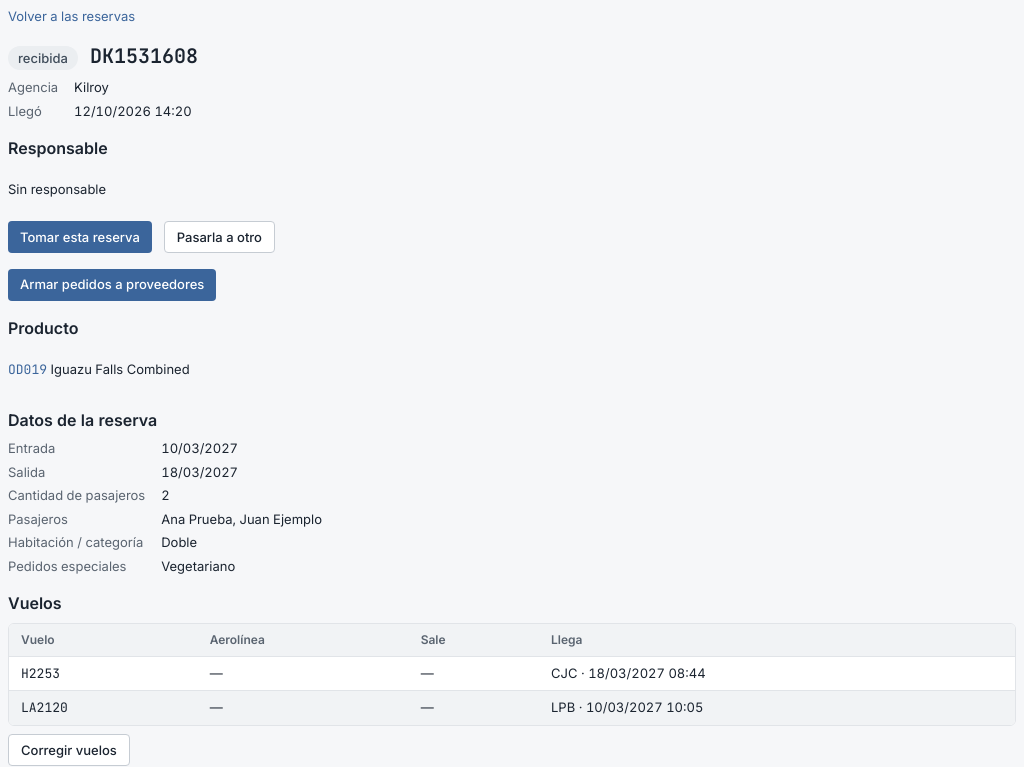
Test case: M3-07 fila 3 — la nota del operativo › viaja con los vuelos y aparece en el detalle al volver a leerlo
This screenshot has width=1024, height=767.
Click the button "Corregir vuelos" at (69, 750), box [8,734,130,766]
(page scrolled)
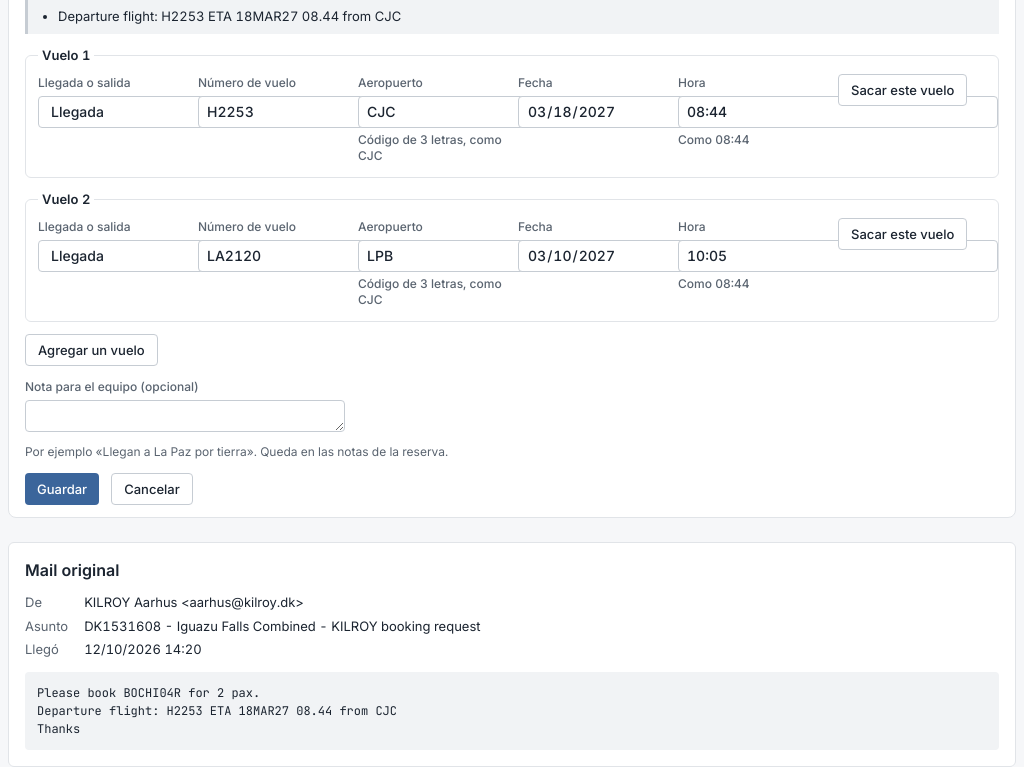
Type "  Llegan a La Paz por tierra " into the text box labelled "Nota para el equipo (opcional)" at (185, 416), box [25,400,345,432]
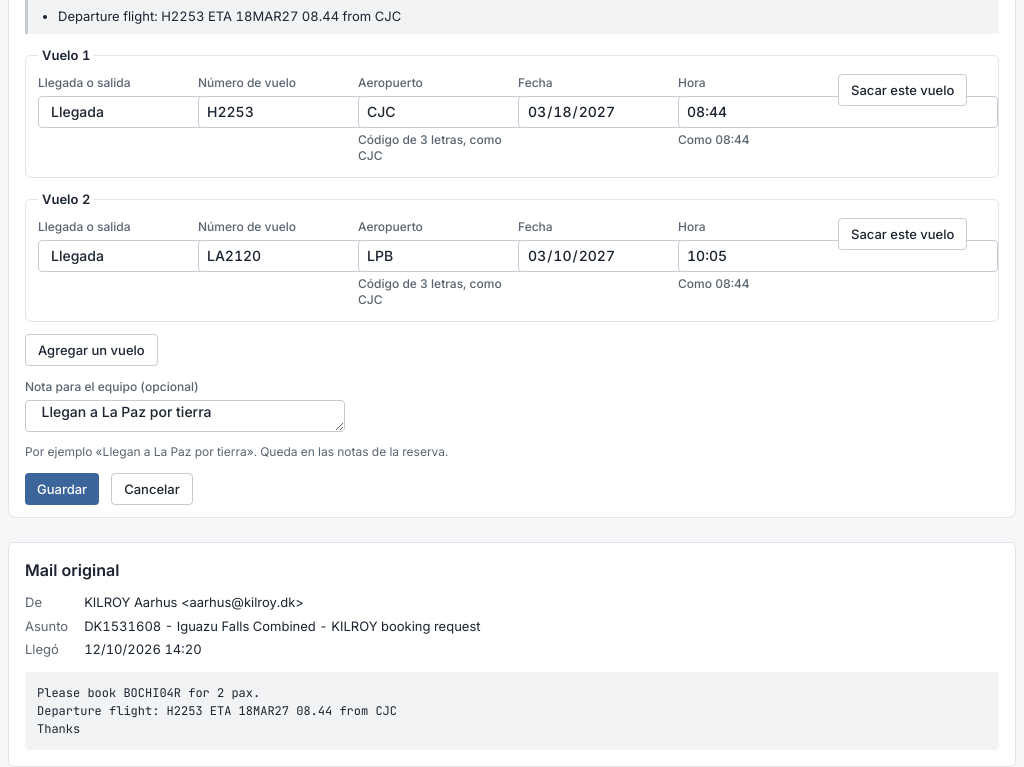
Click the button "Guardar" at (62, 489), box [25,473,99,505]
(page scrolled)
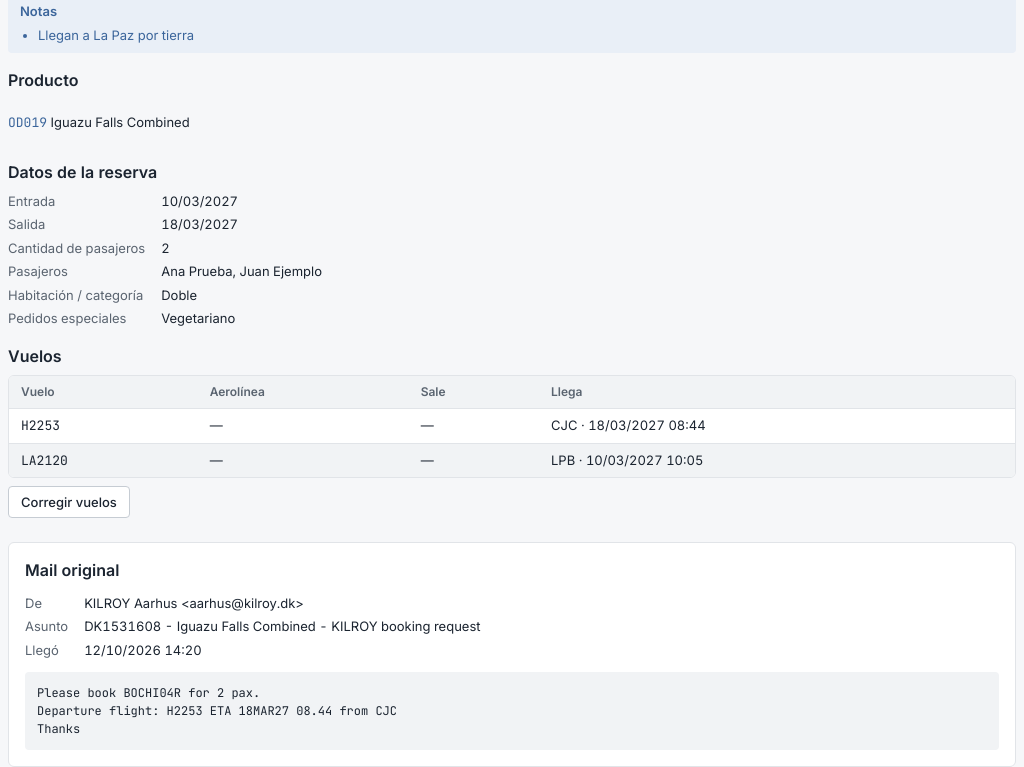
Expected: the element with test id "notas-reserva" shows "Llegan a La Paz por tierra", [38,27,194,43]
